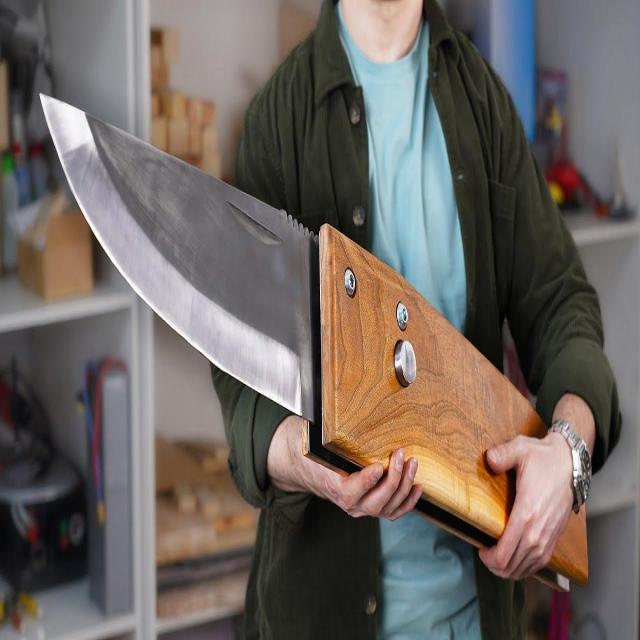weapon: (34, 84, 601, 596)
